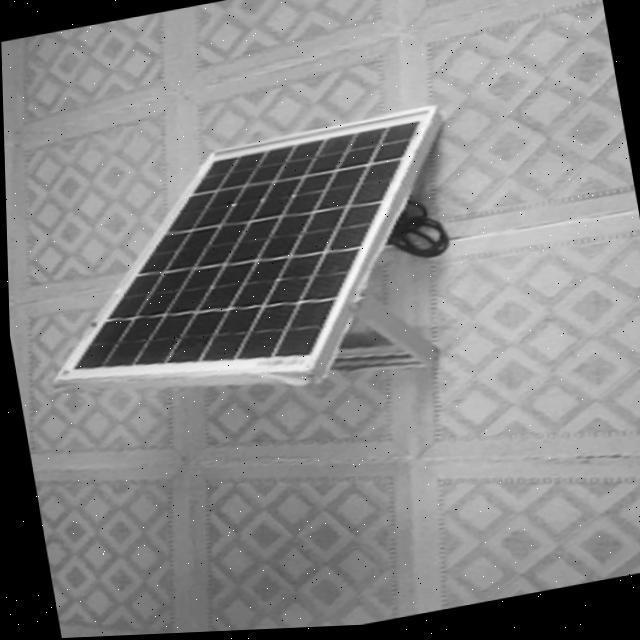Normal Solar Panel: (31, 110, 472, 426)
